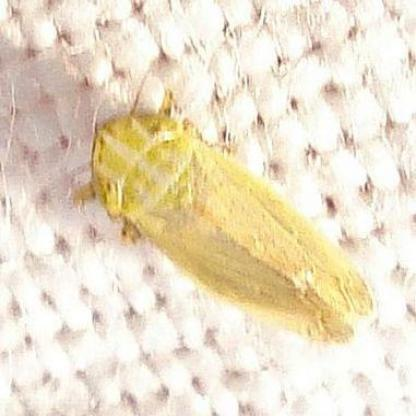green-leafhopper: (81, 93, 376, 349)
